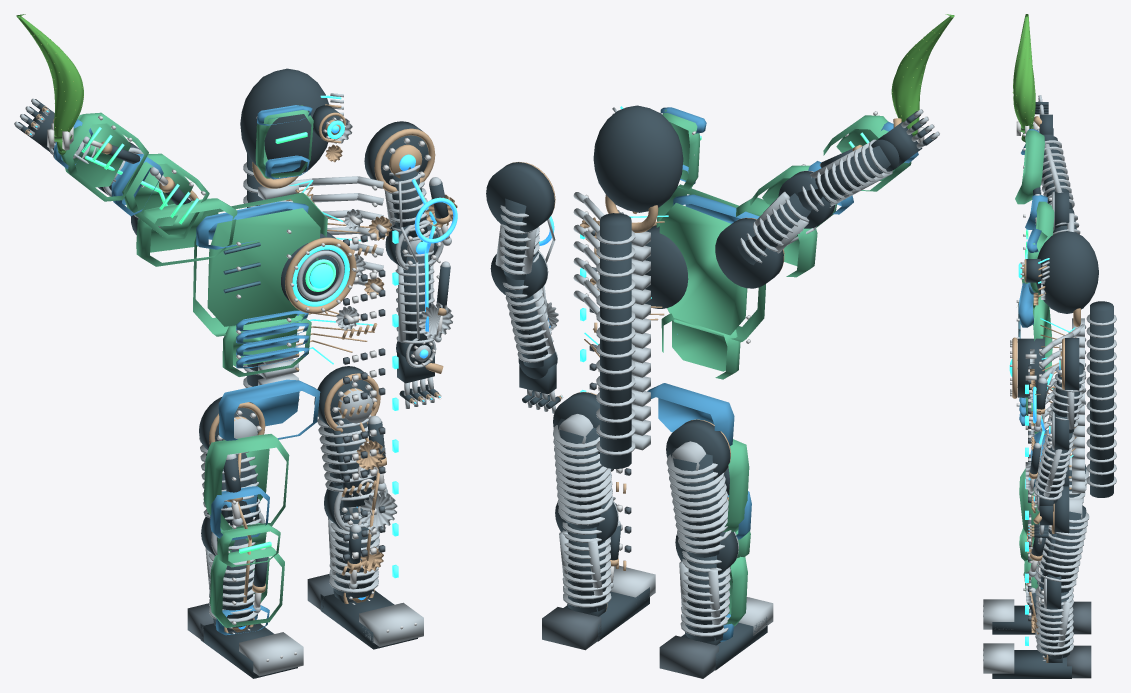
The model's file is WORLDIFACT_EcoMech_Chili_V3_GAME.glb.
The picture shows the model from 3 angles, left to right: view 1: azimuth 30°, elevation 25°; view 2: azimuth 150°, elevation 25°; view 3: azimuth 270°, elevation 25°; orthographic projection. The views are drawn at different scales.
Parts seen in each view (by area): view 1: ARMOR|Left chest main ceramic shell|0001, MECH|Titanium skull|0084, ARMOR|ARMOR left forearm gauntlet|0014, ARMOR|Pelvis-armored-front|0000, ARMOR|ARMOR left shoulder pauldrons|0011, ARMOR|ARMOR left thigh main|0016, ARMOR|ARMOR left upper humerus plated shell|0012, DETAIL|GIANT-GREEN-CHILI-BODY|0255, MECH|Right toe cap|0366, MECH|Left toe cap|0315, ARMOR|ARMOR left shin greave|0019, ARMOR|Left abdomen assembly|0003 (+30 smaller); view 2: ARMOR|Left chest main ceramic shell|0001, MECH|Titanium skull|0084, MECH|Central-titanium-spine-inner|0000, MECH|Right shoulder pivot-socket|0187, ARMOR|Left abdomen assembly|0003, ARMOR|Pelvis-armored-front|0000, MECH|Left shoulder pivot-socket|0112, CORE|Reactor housing|0002, DETAIL|GIANT-GREEN-CHILI-BODY|0255, MECH|Right heel stabilizer|0365, MECH|Left heel stabilizer|0314, MECH|Left main femur axle-inner|0265 (+26 smaller); view 3: MECH|Central-titanium-spine-inner|0000, MECH|Titanium skull|0084, DETAIL|GIANT-GREEN-CHILI-BODY|0255, MECH|Right segmented foot sole|0364, ARMOR|ARMOR left forearm gauntlet|0014, MECH|Right main femur axle-inner|0316, CORE|Reactor housing|0002, MECH|Right toe cap|0366, MECH|Left toe cap|0315, MECH|Right tibia structural strut-inner|0331, MECH|Right shoulder pivot-socket|0187, ARMOR|Left chest main ceramic shell|0001 (+26 smaller).
Part boxes in pixels (<box>): ARMOR|Left chest main ceramic shell|0001: <box>193,192,327,336</box>; MECH|Titanium skull|0084: <box>240,68,329,177</box>; ARMOR|ARMOR left forearm gauntlet|0014: <box>61,112,148,201</box>; ARMOR|Pelvis-armored-front|0000: <box>218,379,320,440</box>; ARMOR|ARMOR left shoulder pauldrons|0011: <box>136,198,237,266</box>; ARMOR|ARMOR left thigh main|0016: <box>203,434,289,530</box>; ARMOR|ARMOR left upper humerus plated shell|0012: <box>122,153,209,239</box>; DETAIL|GIANT-GREEN-CHILI-BODY|0255: <box>16,14,83,137</box>; MECH|Right toe cap|0366: <box>359,602,423,646</box>; MECH|Left toe cap|0315: <box>239,632,303,676</box>; ARMOR|ARMOR left shin greave|0019: <box>210,546,284,627</box>; ARMOR|Left abdomen assembly|0003: <box>222,315,311,376</box>; ARMOR|Left chest main ceramic shell|0001: <box>656,184,765,341</box>; MECH|Titanium skull|0084: <box>593,105,683,212</box>; MECH|Central-titanium-spine-inner|0000: <box>600,213,631,468</box>; MECH|Right shoulder pivot-socket|0187: <box>486,162,554,232</box>; ARMOR|Left abdomen assembly|0003: <box>661,313,740,379</box>; ARMOR|Pelvis-armored-front|0000: <box>647,383,734,445</box>; MECH|Left shoulder pivot-socket|0112: <box>715,218,783,288</box>; CORE|Reactor housing|0002: <box>645,225,688,308</box>; DETAIL|GIANT-GREEN-CHILI-BODY|0255: <box>891,14,954,134</box>; MECH|Right heel stabilizer|0365: <box>542,607,601,650</box>; MECH|Left heel stabilizer|0314: <box>659,635,718,678</box>; MECH|Left main femur axle-inner|0265: <box>671,447,725,557</box>; MECH|Central-titanium-spine-inner|0000: <box>1090,301,1113,497</box>; MECH|Titanium skull|0084: <box>1036,231,1098,313</box>; DETAIL|GIANT-GREEN-CHILI-BODY|0255: <box>1013,14,1035,128</box>; MECH|Right segmented foot sole|0364: <box>992,650,1071,678</box>; ARMOR|ARMOR left forearm gauntlet|0014: <box>1015,130,1044,204</box>; MECH|Right main femur axle-inner|0316: <box>1037,505,1086,592</box>; CORE|Reactor housing|0002: <box>1018,338,1044,397</box>; MECH|Right toe cap|0366: <box>983,643,1014,673</box>; MECH|Left toe cap|0315: <box>983,599,1014,629</box>; MECH|Right tibia structural strut-inner|0331: <box>1040,587,1070,659</box>; MECH|Right shoulder pivot-socket|0187: <box>1065,338,1079,390</box>; ARMOR|Left chest main ceramic shell|0001: <box>1018,283,1052,398</box>.
Size of the model in its own units: 3.02 by 4.51 by 1.04.
